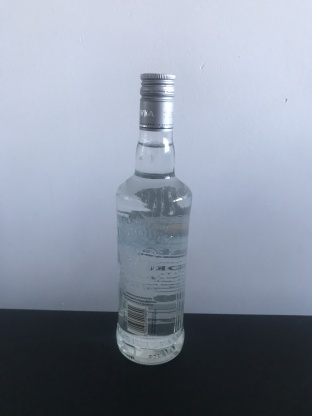nakretka: (138, 71, 176, 133)
